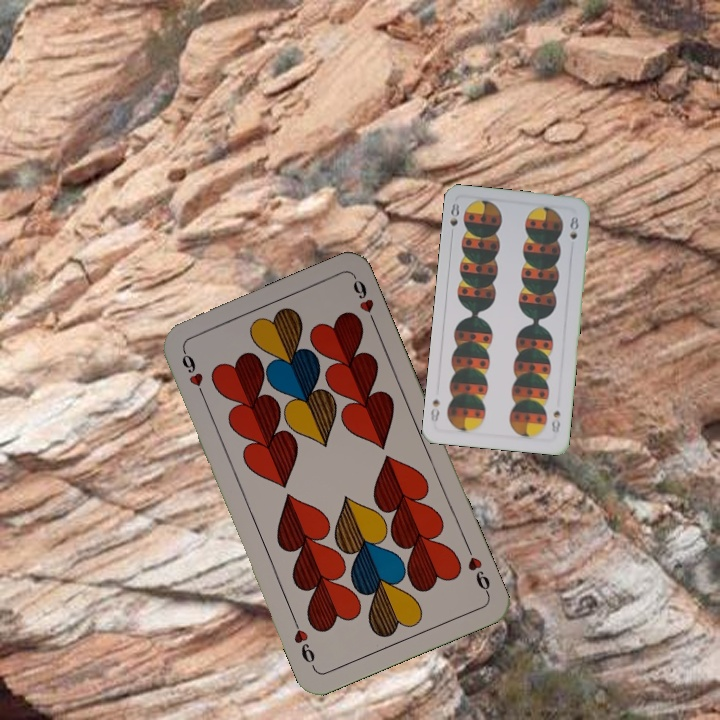H9: (177, 346, 209, 403), (462, 542, 493, 598)
S8: (446, 199, 462, 239), (547, 407, 563, 436)
